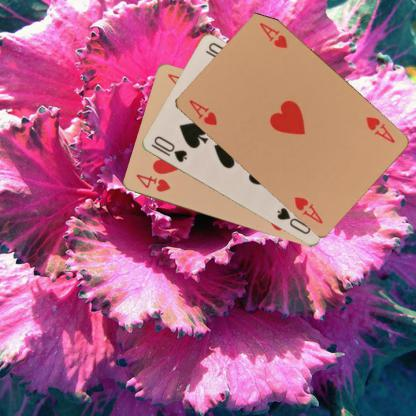10s: (148, 134, 188, 164)
4h: (133, 171, 171, 194)
Ah: (363, 114, 396, 144), (186, 97, 218, 127)
